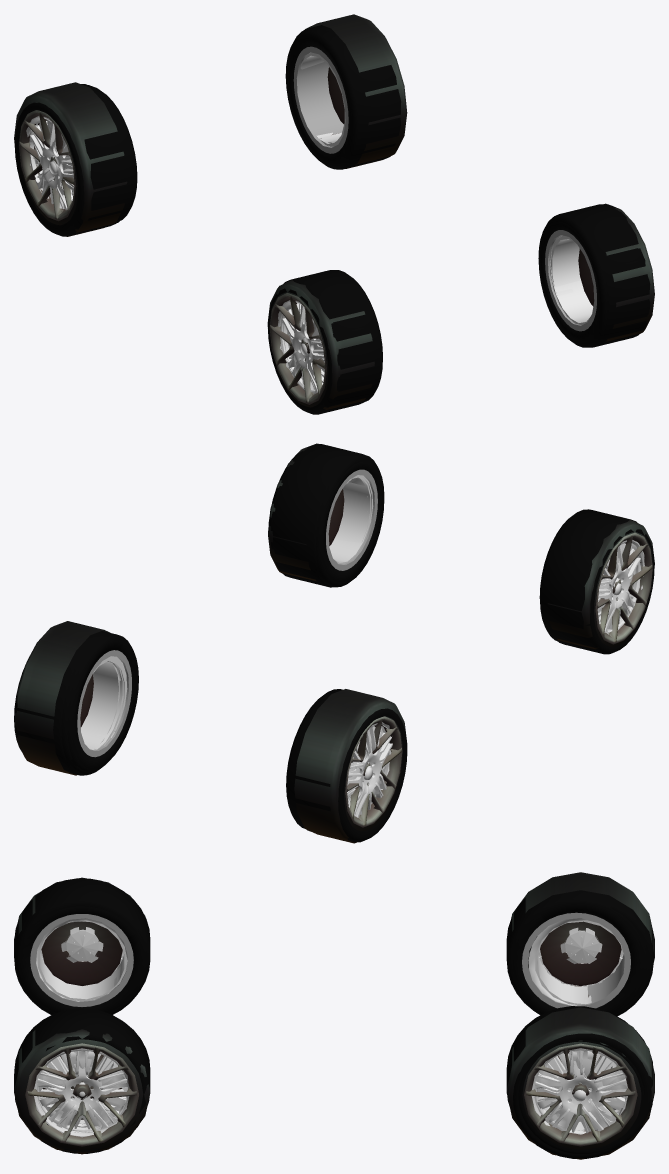
The model's file is Porshe_wheels.fbx.
3 renders of one model, top to bottom at view 1: azimuth 30°, elevation 25°; view 2: azimuth 150°, elevation 25°; view 3: azimuth 270°, elevation 25°, orthographic.
Parts seen in each view (by area): view 1: WheelStarRB, Porche_992_wheel_B.R, Porche_992_wheel_F.R, WheelStarLB, Porche_992_wheel_B.L, WheelStarLF, WheelSimple_LF, WheelFutureRB, WheelFlowerRF, WheelSimple_RF, WheelFlowerLF, WheelFutureRF (+4 smaller); view 2: Porche_992_wheel_B.R, Porche_992_wheel_B.L, WheelFiveLF, Porche_992_wheel_F.R, WheelFiveRF, WheelMagicLB, WheelStarRB, WheelStarLF, WheelFutureRB, WheelFutureRF, WheelFlowerRF, WheelFlowerLF (+8 smaller); view 3: Porche_992_wheel_B.L, Porche_992_wheel_F.L, WheelStarLB, Porche_992_wheel_B.R, WheelStarRF, WheelMagicLB, WheelFutureLB, Porche_992_wheel_F.R, WheelFlowerLF, WheelMagicLF, WheelThreeStar_RB, WheelMagicRB (+14 smaller).
Part boxes in pixels (bbox=[...]): WheelStarRB: bbox=[287, 30, 401, 167]; Porche_992_wheel_B.R: bbox=[14, 82, 127, 236]; Porche_992_wheel_F.R: bbox=[267, 280, 374, 413]; WheelStarLB: bbox=[29, 87, 137, 220]; Porche_992_wheel_B.L: bbox=[304, 14, 407, 168]; WheelStarLF: bbox=[538, 214, 641, 342]; WheelSimple_LF: bbox=[550, 235, 649, 344]; WheelFutureRB: bbox=[14, 102, 121, 236]; WheelFlowerRF: bbox=[549, 204, 643, 324]; WheelSimple_RF: bbox=[283, 305, 381, 405]; WheelFlowerLF: bbox=[284, 270, 370, 394]; WheelFutureRF: bbox=[268, 288, 368, 414]; Porche_992_wheel_B.R: bbox=[294, 689, 407, 843]; Porche_992_wheel_B.L: bbox=[14, 621, 110, 775]; WheelFiveLF: bbox=[272, 467, 370, 579]; Porche_992_wheel_F.R: bbox=[547, 520, 654, 649]; WheelFiveRF: bbox=[540, 525, 640, 635]; WheelMagicLB: bbox=[14, 643, 119, 768]; WheelStarRB: bbox=[72, 631, 138, 768]; WheelStarLF: bbox=[316, 454, 384, 582]; WheelFutureRB: bbox=[302, 708, 407, 842]; WheelFutureRF: bbox=[548, 529, 654, 654]; WheelFlowerRF: bbox=[291, 444, 373, 564]; WheelFlowerLF: bbox=[561, 509, 639, 633]; Porche_992_wheel_B.L: bbox=[506, 1007, 654, 1159]; Porche_992_wheel_F.L: bbox=[14, 1029, 150, 1154]; WheelStarLB: bbox=[506, 890, 643, 1014]; Porche_992_wheel_B.R: bbox=[506, 872, 654, 997]; WheelStarRF: bbox=[15, 898, 146, 1012]; WheelMagicLB: bbox=[518, 1016, 652, 1153]; WheelFutureLB: bbox=[513, 1040, 644, 1158]; Porche_992_wheel_F.R: bbox=[14, 877, 145, 985]; WheelFlowerLF: bbox=[26, 878, 124, 999]; WheelMagicLF: bbox=[34, 1030, 149, 1137]; WheelThreeStar_RB: bbox=[528, 916, 648, 1016]; WheelMagicRB: bbox=[535, 892, 653, 1015].
Bounding box in the file's own units: 183 × 72.13 × 312.
Materials: 20 (1 with a texture image).
